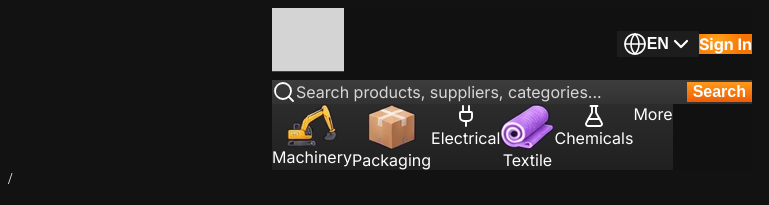
it: mobile home header › searches products from the search bar, and ignores an empty search
The width and height of the screenshot is (769, 205).
Submit the form, box x1=272 y1=80 x2=752 y2=104
Expected: the text with test id "where" reads "/", x1=8 y1=170 x2=12 y2=187
Type "steel pipes" into the field at (491, 92), box x1=296 y1=82 x2=687 y2=102
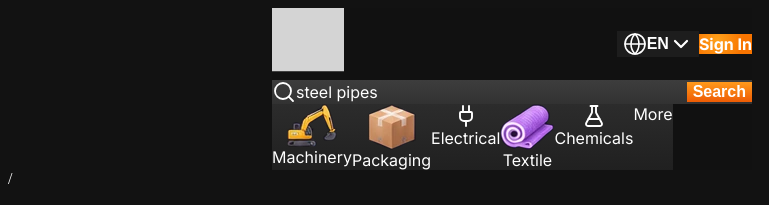
Submit the form, box x1=272 y1=80 x2=752 y2=104
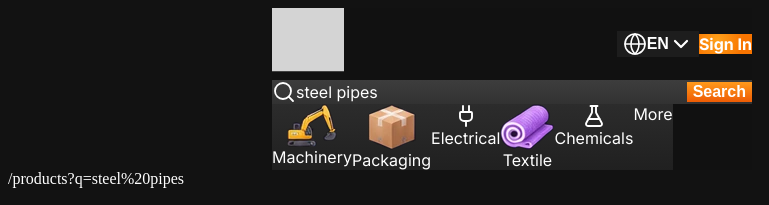
Expected: the text with test id "where" reads "/products?q=steel%20pipes", x1=8 y1=170 x2=184 y2=187
